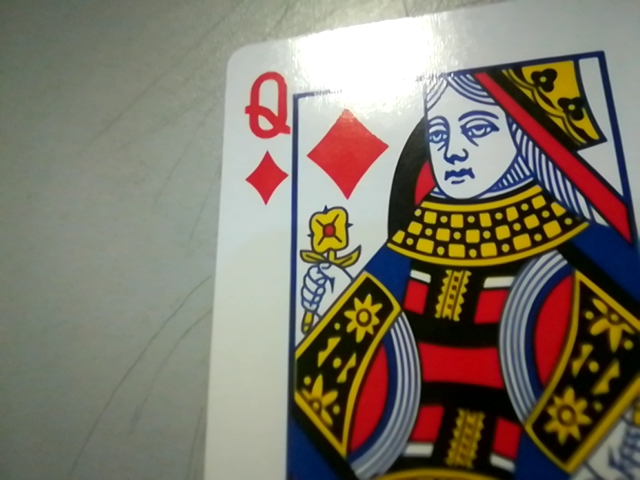fk q: (231, 67, 297, 203)
